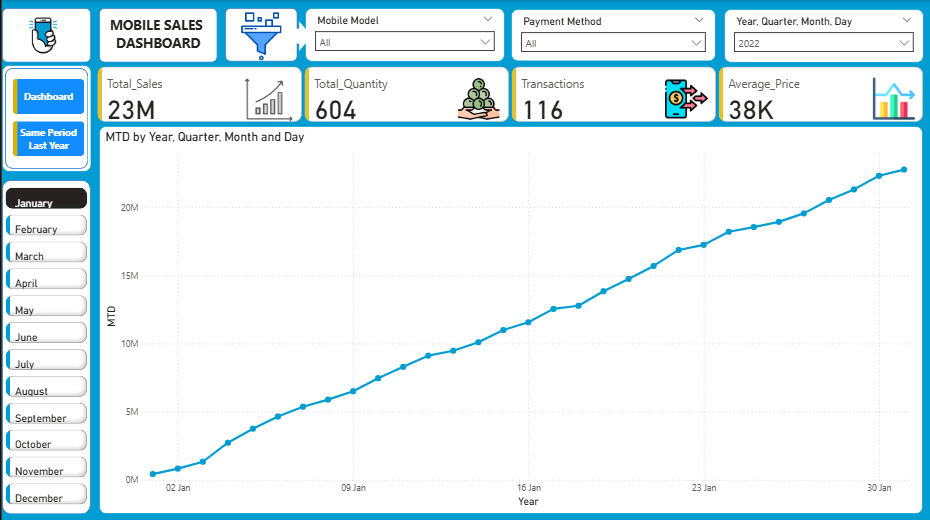

This screenshot's page, from the dashboard's own definition file:
{"tool":"powerbi","page":{"name":"MTD Report","canvas":[1280,720],"ordinal":1},"visuals":[{"type":"shape","box":[0,11.6,122.9,75.2],"z":0},{"type":"image","box":[14.5,11.6,83.9,75.2],"z":1000},{"type":"shape","box":[0,89.6,122.9,147.5],"z":2000},{"type":"cardVisual","fields":{"Data":["Mobile_Sales_Data.Total_Sales","Mobile_Sales_Data.Total_Quantity","Mobile_Sales_Data.Transactions","Mobile_Sales_Data.Average_Price"]},"box":[127.2,86.7,1146.5,86.7],"z":3000},{"type":"slicer","fields":{"Values":["Mobile_Sales_Data.Mobile Model"]},"box":[416.4,11.6,274.7,73.7],"z":4000},{"type":"slicer","fields":{"Values":["Mobile_Sales_Data.Payment Method"]},"box":[701.2,13,281.9,72.3],"z":5000},{"type":"slicer","fields":{"Values":["Custom_Calendar.Date.Variation.Date Hierarchy.Year","Custom_Calendar.Date.Variation.Date Hierarchy.Quarter","Custom_Calendar.Date.Variation.Date Hierarchy.Month","Custom_Calendar.Date.Variation.Date Hierarchy.Day"]},"box":[993.3,13,274.7,73.7],"z":6000},{"type":"shape","box":[306.5,11.6,99.8,73.7],"z":7000},{"type":"image","box":[273.3,11.6,166.3,78.1],"z":8000},{"type":"shape","box":[390.4,28.9,36.1,41.9],"z":9000},{"type":"shape","box":[133,11.6,163.4,75.2],"z":10000},{"type":"textbox","box":[140.2,15.9,148.9,63.6],"z":11000},{"type":"lineChart","fields":{"Category":["Custom_Calendar.Date.Variation.Date Hierarchy.Year","Custom_Calendar.Date.Variation.Date Hierarchy.Quarter","Custom_Calendar.Date.Variation.Date Hierarchy.Month","Custom_Calendar.Date.Variation.Date Hierarchy.Day"],"Y":["Mobile_Sales_Data.MTD"]},"box":[133.5,173.4,1134.1,534],"z":12000},{"type":"shape","box":[0,247.7,122.5,459.7],"z":13000},{"type":"advancedSlicerVisual","fields":{"Values":["Custom_Calendar.Date.Variation.Date Hierarchy.Month"]},"box":[0,253.2,122.5,448.7],"z":14000},{"type":"pageNavigator","box":[14.5,108.4,98.3,107],"z":15000}]}

Visuals, with their boxes in screenshot pixels (x1, y1, x2, y2), scaled from the page's 1280x720 canvas onto the 930x520 screenshot:
shape: [x1=0, y1=8, x2=89, y2=63]
image: [x1=11, y1=8, x2=71, y2=63]
shape: [x1=0, y1=65, x2=89, y2=171]
cardVisual - Mobile_Sales_Data.Total_Sales x Mobile_Sales_Data.Total_Quantity: [x1=92, y1=63, x2=925, y2=125]
slicer - Mobile_Sales_Data.Mobile Model: [x1=303, y1=8, x2=502, y2=62]
slicer - Mobile_Sales_Data.Payment Method: [x1=509, y1=9, x2=714, y2=62]
slicer - Custom_Calendar.Date.Variation.Date Hierarchy.Year x Custom_Calendar.Date.Variation.Date Hierarchy.Quarter: [x1=722, y1=9, x2=921, y2=63]
shape: [x1=223, y1=8, x2=295, y2=62]
image: [x1=199, y1=8, x2=319, y2=65]
shape: [x1=284, y1=21, x2=310, y2=51]
shape: [x1=97, y1=8, x2=215, y2=63]
textbox: [x1=102, y1=11, x2=210, y2=57]
lineChart - Custom_Calendar.Date.Variation.Date Hierarchy.Year x Custom_Calendar.Date.Variation.Date Hierarchy.Quarter: [x1=97, y1=125, x2=921, y2=511]
shape: [x1=0, y1=179, x2=89, y2=511]
advancedSlicerVisual - Custom_Calendar.Date.Variation.Date Hierarchy.Month: [x1=0, y1=183, x2=89, y2=507]
pageNavigator: [x1=11, y1=78, x2=82, y2=156]
